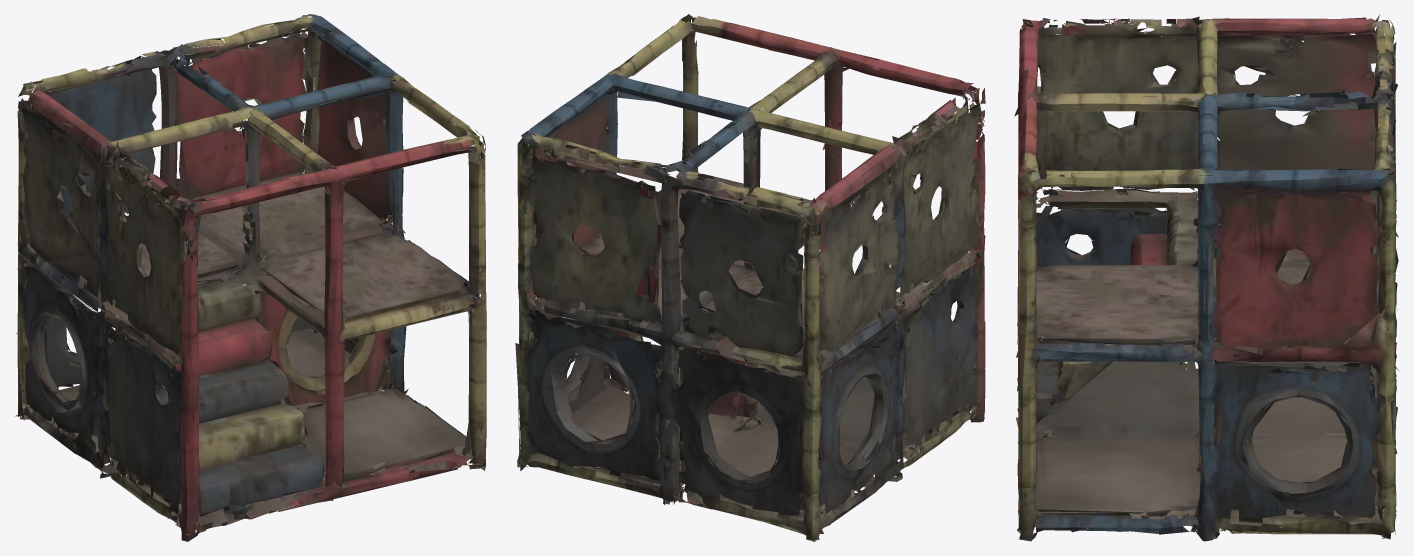
The model's file is frame.glb.
The picture shows the model from 3 angles, left to right: view 1: azimuth 30°, elevation 25°; view 2: azimuth 150°, elevation 25°; view 3: azimuth 270°, elevation 25°; orthographic projection. The views are drawn at different scales.
Visible parts, largest first — view 1: Mesh_0; view 2: Mesh_0; view 3: Mesh_0.
Boxes of the visible parts, left/top/right/bottom form: Mesh_0: left=15, top=14, right=486, bottom=541; Mesh_0: left=515, top=14, right=985, bottom=541; Mesh_0: left=1014, top=15, right=1399, bottom=541.
Size of the model in its own units: 2.18 by 2.3 by 2.15.
Materials: 1 (1 with a texture image).
